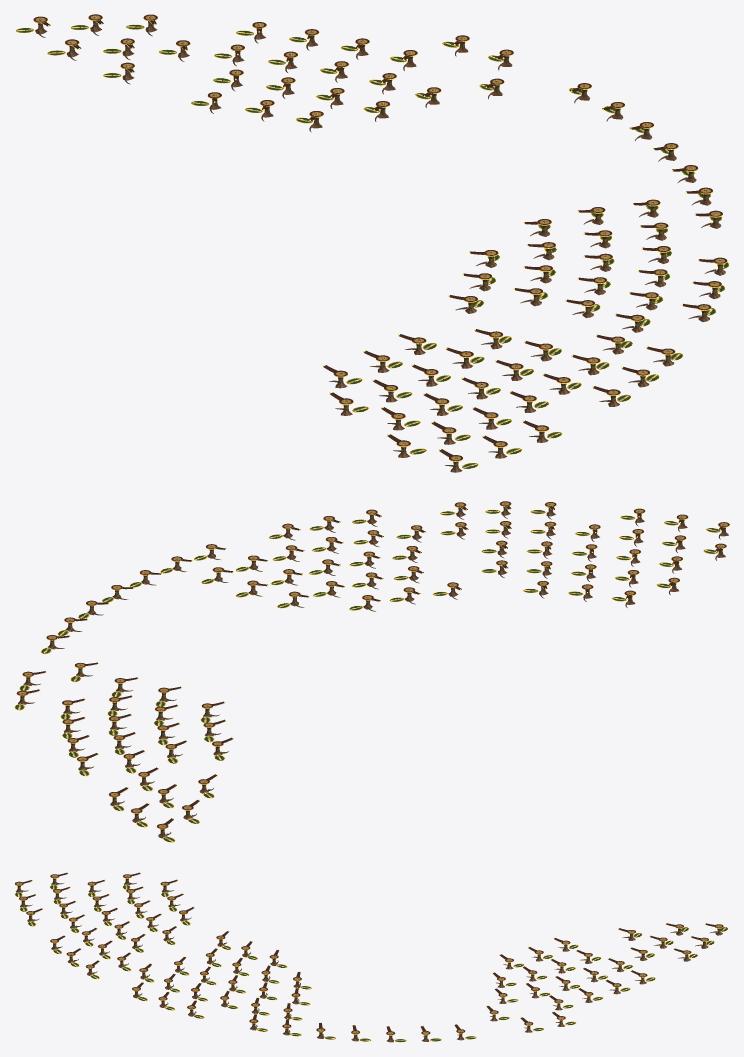
The model's file is mwm_bake_disks_g.glb.
3 views of the same model, one above another, from view 1: azimuth 30°, elevation 25°; view 2: azimuth 150°, elevation 25°; view 3: azimuth 270°, elevation 25° (orthographic). The views are drawn at different scales.
Visible parts, largest first — view 1: mwm_disk_g.glb; view 2: mwm_disk_g.glb; view 3: mwm_disk_g.glb.
Part boxes in pixels (x1,y1,x2,y2): mwm_disk_g.glb: [15, 14, 729, 472]; mwm_disk_g.glb: [14, 501, 729, 842]; mwm_disk_g.glb: [14, 872, 728, 1042].
Size of the model in its own units: 52.62 by 1.48 by 98.57.
Materials: 8 (7 with a texture image).
